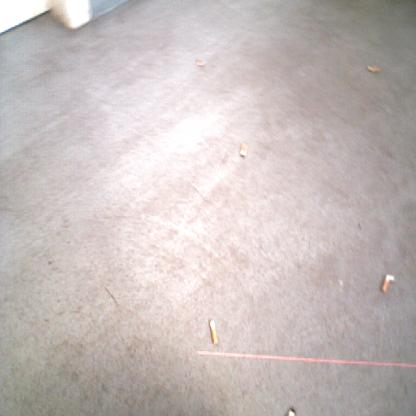dirty: (208, 317, 218, 345), (381, 273, 395, 293), (238, 141, 248, 158), (366, 65, 382, 74), (287, 404, 297, 416), (195, 58, 207, 68)
mark: (104, 286, 118, 305), (356, 221, 363, 231), (46, 259, 54, 267)
